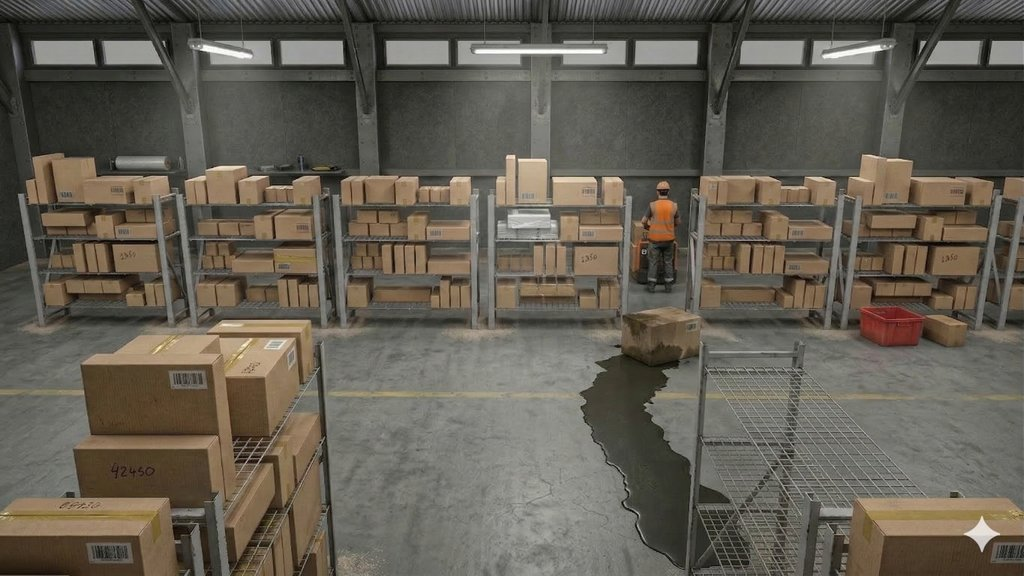empty_shelf: (708, 348, 890, 576), (344, 207, 406, 242), (720, 280, 786, 312), (371, 277, 433, 309), (518, 281, 581, 311), (342, 242, 381, 275), (241, 275, 277, 308)
person: (635, 176, 694, 300)
safety_helmet: (654, 176, 676, 194)
safety_vest: (643, 198, 677, 253)
spill: (543, 296, 726, 571)
